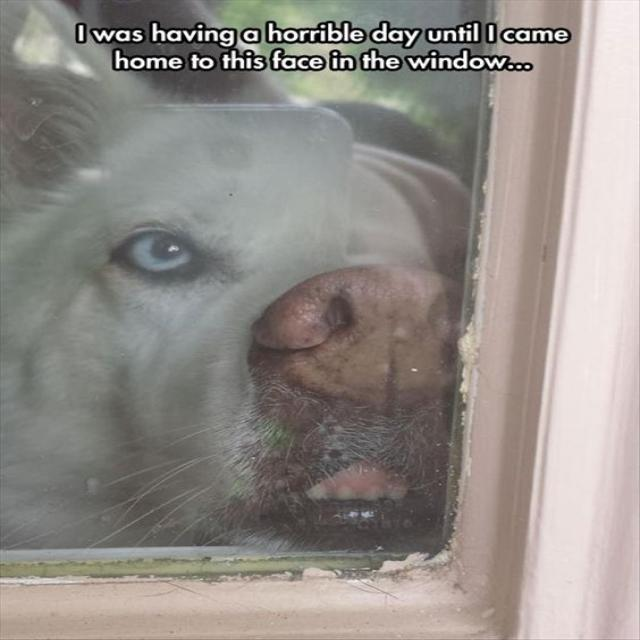dog: (34, 68, 523, 590)
